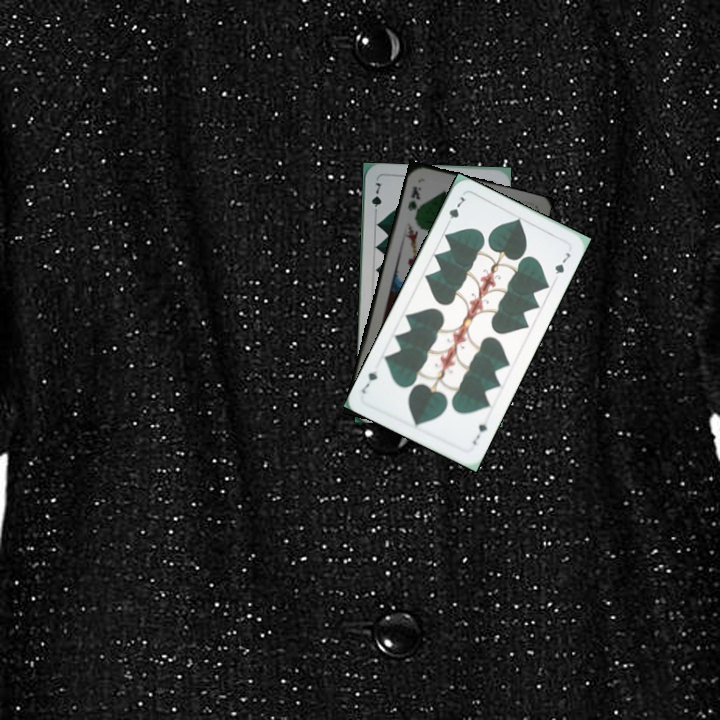G7: (442, 192, 469, 229), (469, 415, 491, 448), (367, 179, 384, 218)
GK: (403, 182, 423, 220)
